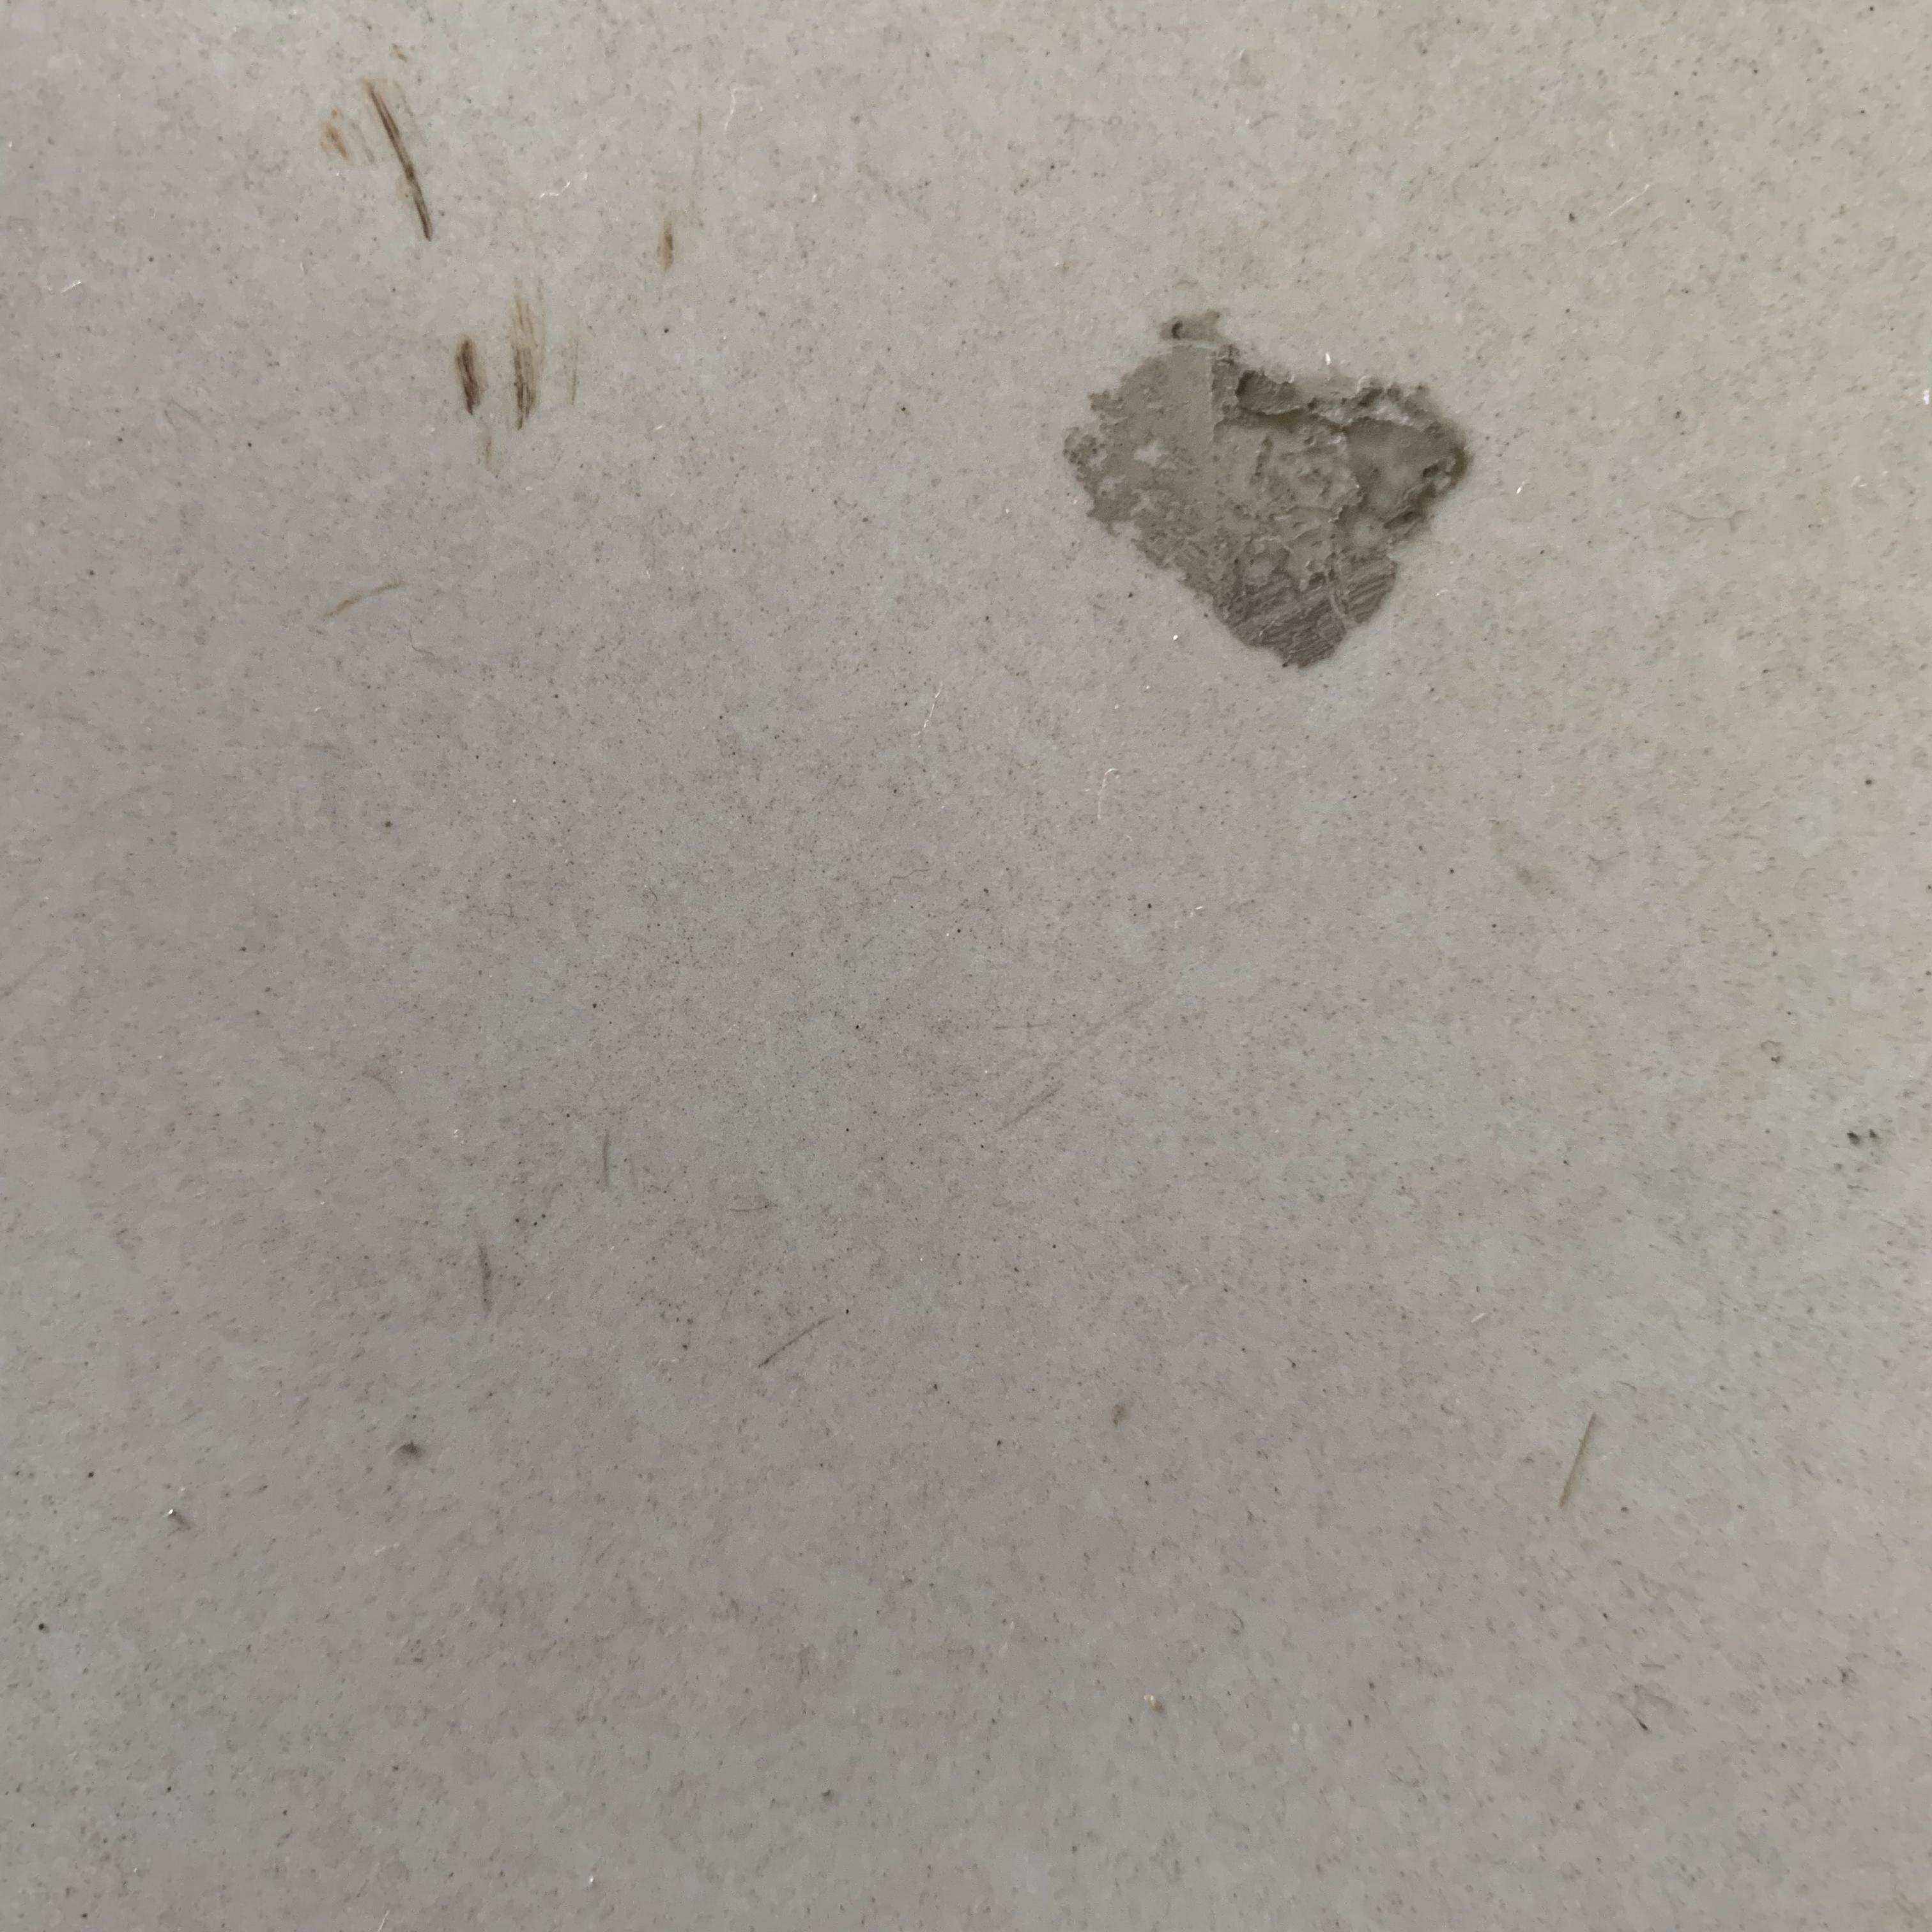grey spot: (1058, 308, 1477, 676)
